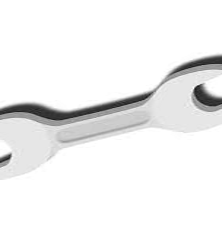Wrench: (3, 61, 222, 185)
